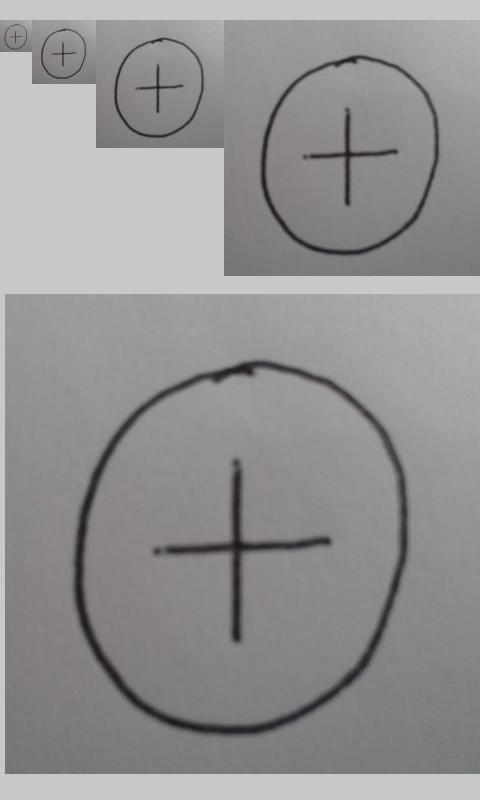button: (70, 359, 411, 735), (261, 55, 441, 255), (113, 36, 206, 138), (40, 28, 86, 79), (4, 24, 28, 50)
